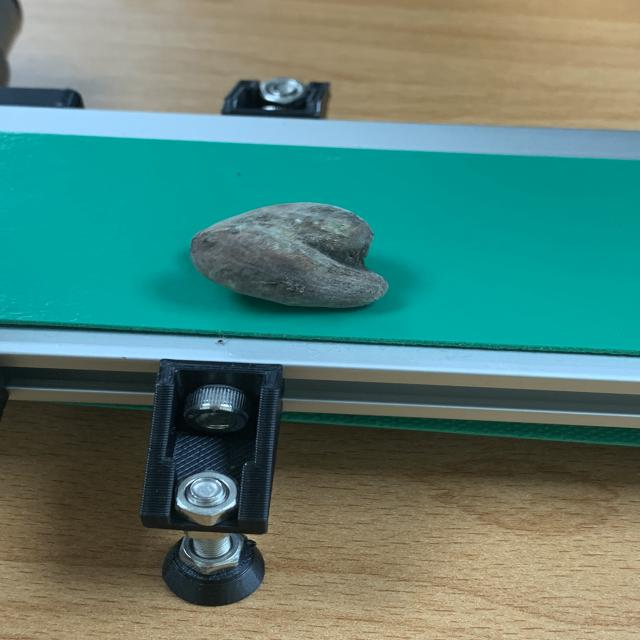Agglomerated_cocoabeans: (152, 166, 450, 337)
